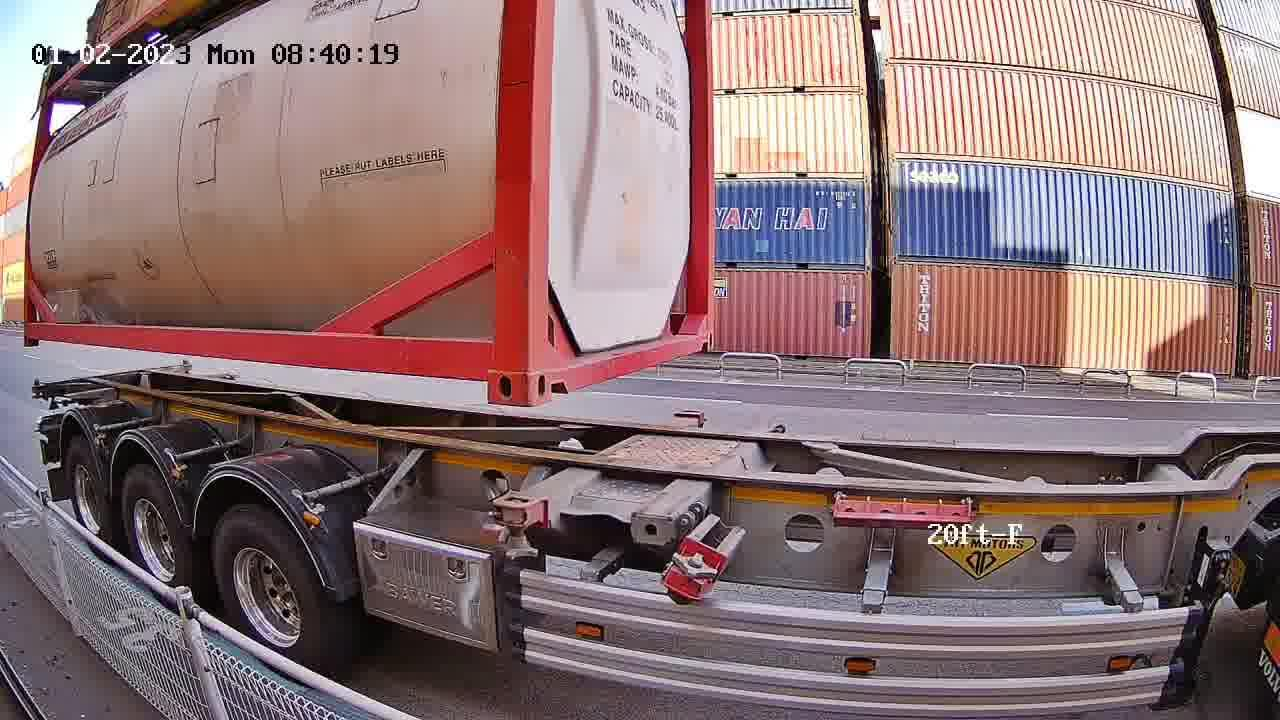Chassis: (503, 410, 705, 524)
Cone: (494, 492, 547, 567)
Hole_L: (527, 338, 571, 409)
Hole_R: (451, 330, 530, 410), (692, 310, 715, 352)
Tire: (215, 509, 328, 667), (121, 469, 192, 601), (66, 443, 109, 547)
